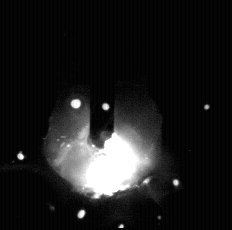arame: (91, 0, 115, 149)
poca: (43, 0, 162, 230)
